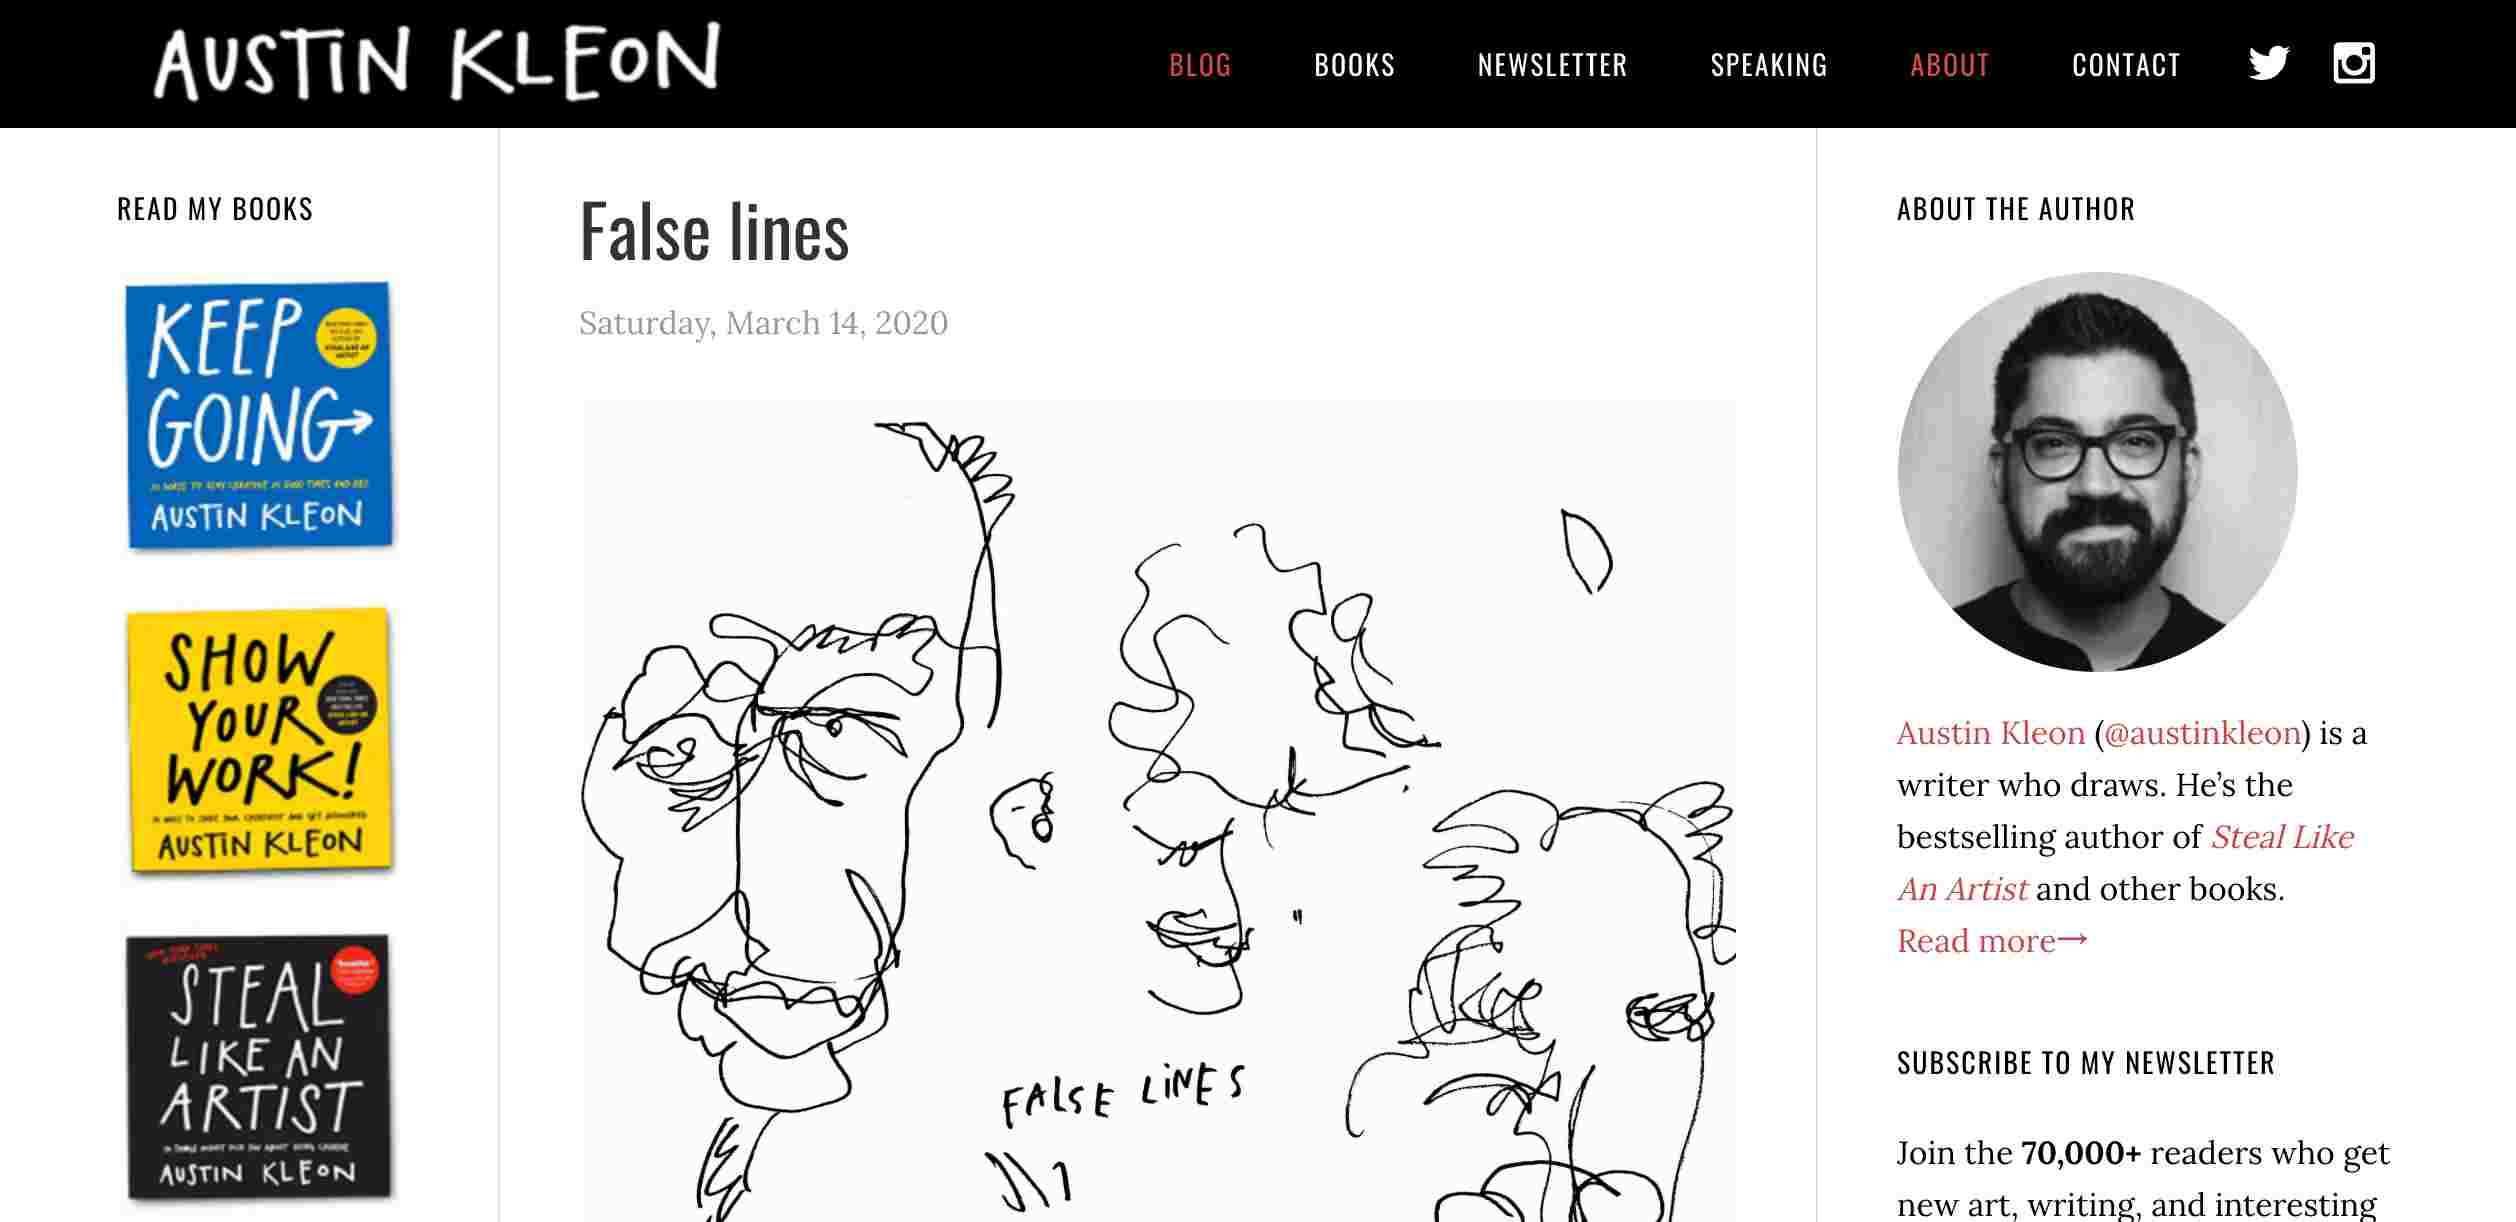Image: (554, 398, 1767, 1222), (1877, 268, 2304, 683), (108, 598, 416, 884), (119, 271, 404, 539), (122, 925, 393, 1203), (135, 0, 778, 107)
Menu Bar: (1123, 0, 2197, 123)
Nav Bar: (2230, 0, 2400, 112)
Side Bar: (1821, 130, 2516, 1222), (14, 135, 501, 1219)
